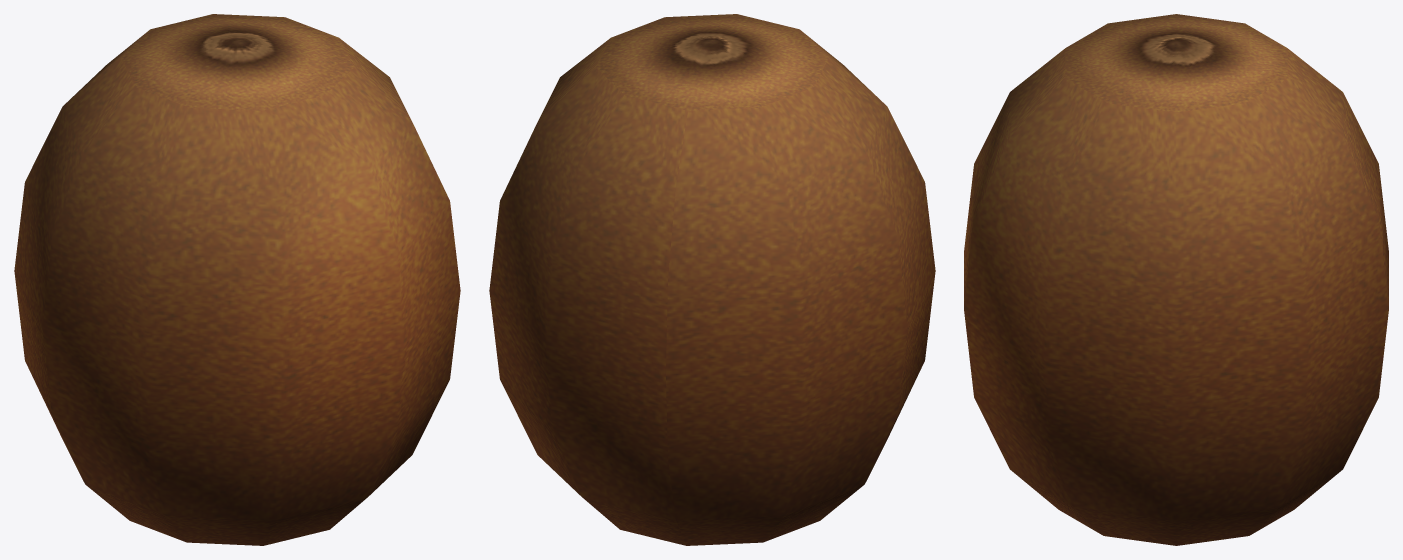
File: Kiwi_Whole.fbx
The picture shows the model from 3 angles, left to right: view 1: azimuth 30°, elevation 25°; view 2: azimuth 150°, elevation 25°; view 3: azimuth 270°, elevation 25°; orthographic projection.
Visible parts, largest first — view 1: Kiwi_Whole; view 2: Kiwi_Whole; view 3: Kiwi_Whole.
Boxes of the visible parts, <box> form: Kiwi_Whole: <box>14,14,460,545</box>; Kiwi_Whole: <box>489,14,935,545</box>; Kiwi_Whole: <box>964,14,1388,545</box>.
Bounding box in the file's own units: 23.64 × 27.83 × 22.49.
